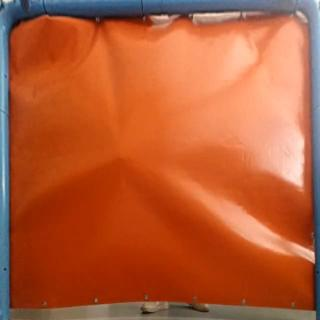Hit-hRxx: (115, 152, 128, 161)
